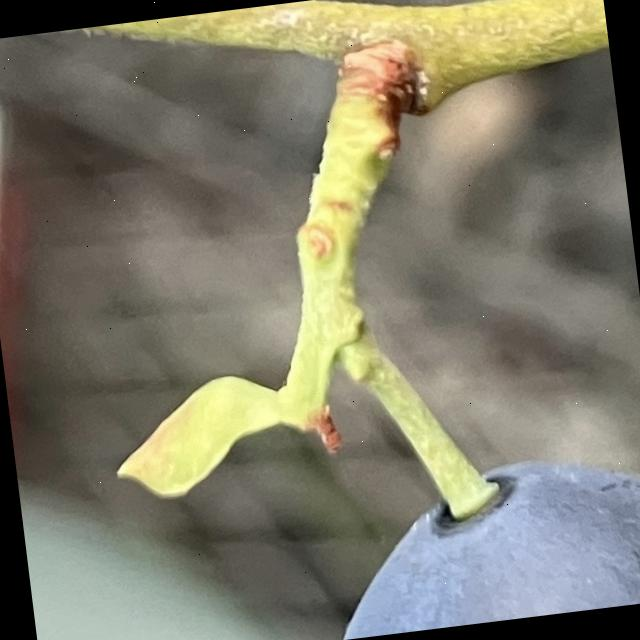Blueberries: (302, 446, 640, 640)
